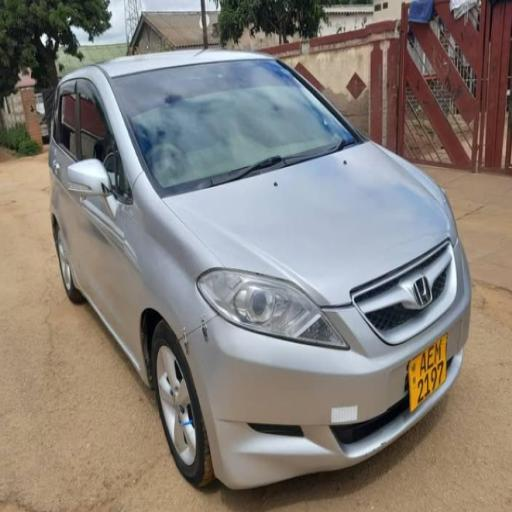number-plates: (409, 332, 451, 404)
